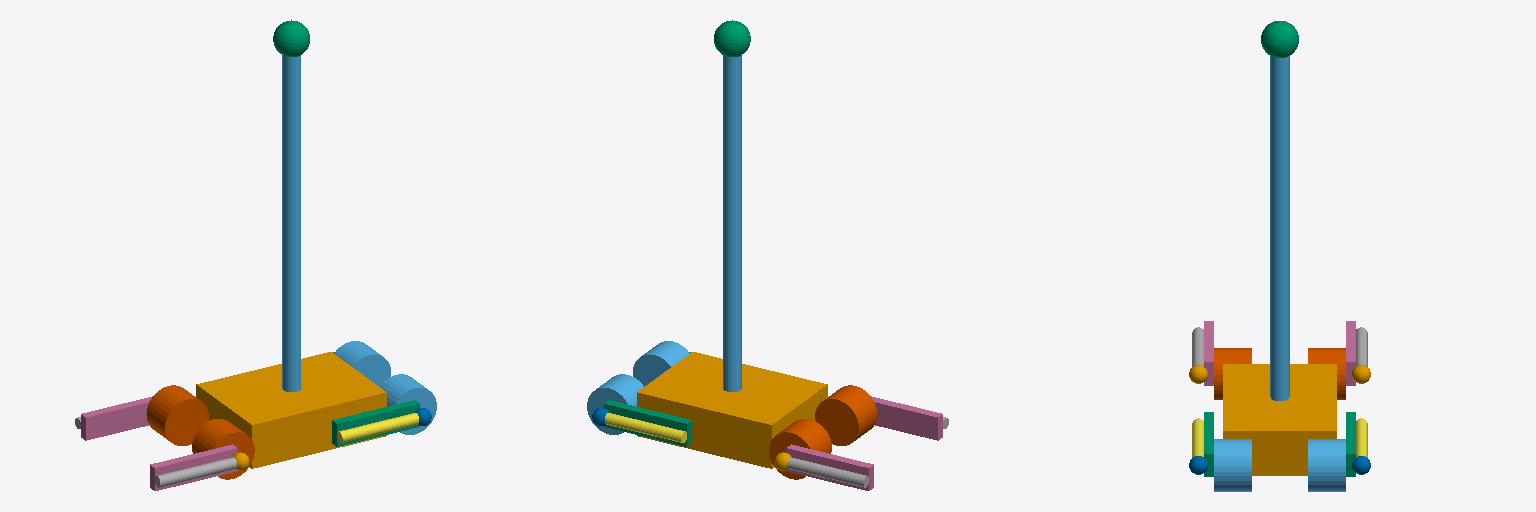
--- Render facts (derived) ---
3 views of the same robot in one strip: view 1: azimuth 30°, elevation 25°; view 2: azimuth 150°, elevation 25°; view 3: azimuth 270°, elevation 25° (orthographic).
Robot: spirit — 19 links, 18 joints (13 revolute, 5 fixed); root link body; default pose: all joints at 0.
Links seen in each view (by area): view 1: body, tail_link_0, hip1, upper1, hip3, hip2, upper2, upper3, hip0, tail_mass, lower2, lower3; view 2: body, tail_link_0, hip3, upper3, hip1, hip0, upper0, upper1, hip2, tail_mass, lower0, lower1; view 3: body, tail_link_0, hip0, hip2, tail_mass, hip1, hip3, upper0, upper2, upper1, upper3.
Link boxes in pixels (x1,y1,x2,y2): body: (196,352,386,468); tail_link_0: (282,55,300,391); hip1: (146,385,208,445); upper1: (81,396,152,440); hip3: (192,419,254,479); hip2: (380,374,436,434); upper2: (332,400,419,446); upper3: (150,444,237,490); hip0: (334,341,390,386); tail_mass: (273,20,309,56); lower2: (337,413,418,442); lower3: (154,457,236,487); body: (637,352,827,468); tail_link_0: (723,55,741,391); hip3: (815,385,877,445); upper3: (871,396,942,440); hip1: (769,419,831,479); hip0: (587,374,643,434); upper0: (604,400,691,446); upper1: (786,444,873,490); hip2: (633,341,689,386); tail_mass: (714,20,750,56); lower0: (605,413,686,442); lower1: (787,457,869,487); body: (1223,364,1336,475); tail_link_0: (1270,56,1289,400); hip0: (1308,439,1345,491); hip2: (1214,439,1251,491); tail_mass: (1261,21,1298,57); hip1: (1308,348,1345,399); hip3: (1214,348,1251,399); upper0: (1346,412,1355,476); upper2: (1204,412,1213,476); upper1: (1346,321,1355,385); upper3: (1204,321,1213,385).
Bounding box of the posed robot: 0.7136 × 0.382 × 0.9766 m (x, y, z).
Geometry: primitives only (box / cylinder / sphere), no mesh files.

The robot description file, URDF, robot "spirit":
<?xml version="1.0" encoding="utf-8"?>
<!-- =================================================================================== -->
<!-- |    This document was autogenerated by xacro from urdf/spirit_gazebo_tail.urdf.xacro | -->
<!-- |    EDITING THIS FILE BY HAND IS NOT RECOMMENDED                                 | -->
<!-- =================================================================================== -->
<!-- 
MIT License (modified)

Copyright (c) 2020 Ghost Robotics
Authors:
Avik De <[email redacted]>
Tom Jacobs <[email redacted]>

Permission is hereby granted, free of charge, to any person obtaining a copy
of this **file** (the "Software"), to deal
in the Software without restriction, including without limitation the rights
to use, copy, modify, merge, publish, distribute, sublicense, and/or sell
copies of the Software, and to permit persons to whom the Software is
furnished to do so, subject to the following conditions:

The above copyright notice and this permission notice shall be included in all
copies or substantial portions of the Software.

THE SOFTWARE IS PROVIDED "AS IS", WITHOUT WARRANTY OF ANY KIND, EXPRESS OR
IMPLIED, INCLUDING BUT NOT LIMITED TO THE WARRANTIES OF MERCHANTABILITY,
FITNESS FOR A PARTICULAR PURPOSE AND NONINFRINGEMENT. IN NO EVENT SHALL THE
AUTHORS OR COPYRIGHT HOLDERS BE LIABLE FOR ANY CLAIM, DAMAGES OR OTHER
LIABILITY, WHETHER IN AN ACTION OF CONTRACT, TORT OR OTHERWISE, ARISING FROM,
OUT OF OR IN CONNECTION WITH THE SOFTWARE OR THE USE OR OTHER DEALINGS IN THE
SOFTWARE. 
-->
<robot name="spirit">
  <!-- Original: 40 -->
  <!-- Plugins -->
  <gazebo>
    <plugin filename="libgazebo_ros_control.so" name="gazebo_ros_control">
      <robotNamespace>/spirit</robotNamespace>
      <controlPeriod>0.002</controlPeriod>
    </plugin>
    <plugin filename="libground_truth_estimator.so" name="ground_truth_estimator">
      <updateRateHz>500.0</updateRateHz>
    </plugin>
  </gazebo>
  <!--link name="body_dummy">
		<inertial>
			<mass value="${bodyMass}" />
			<inertia ixx="0.05" ixy="0" ixz="0" iyy="0.1" iyz="0" izz="0.1" />
		</inertial>
	</link>
	<joint name="dummy_joint" type="fixed">
		<parent link="body_dummy" />
		<child link="body" />
	</joint-->
  <!-- Body -->
  <link name="body">
    <visual>
      <origin rpy="0 0 0" xyz="0 0 0"/>
      <geometry>
        <box size="0.335 0.24 0.104"/>
      </geometry>
      <material name="darkgray"/>
    </visual>
    <inertial>
      <mass value="7.388"/>
      <!--<mass value="${bodyMass}" /> -->
      <!-- Uniform box -->
      <!-- <inertia ixx="1/12*${bodyMass}*(${bodyWidth}*${bodyWidth} + ${bodyHeight}*${bodyHeight})"  ixy="0"  ixz="0" iyy="1/12*${bodyMass}*(${bodyLength}*${bodyLength} + ${bodyHeight}*${bodyHeight})" iyz="0" izz="1/12*${bodyMass}*(${bodyLength}*${bodyLength} + ${bodyWidth}*${bodyWidth})"/> -->
      <inertia ixx="0.0642434782" ixy="0" ixz="0" iyy="0.1284869565" iyz="0" izz="0.1284869565"/>
      <!--<inertia ixx="0.05" ixy="0" ixz="0" iyy="0.1" iyz="0" izz="0.1" />-->
    </inertial>
    <!-- Just copy geometry for collision -->
    <collision>
      <origin rpy="0 0 0" xyz="0 0 0"/>
      <geometry>
        <box size="0.335 0.24 0.104"/>
      </geometry>
    </collision>
  </link>
  <gazebo reference="body">
    <material>Gazebo/Black</material>
  </gazebo>
  <!-- Hip motor -->
  <link name="hip0">
    <visual>
      <origin rpy="1.5707963268 0 0" xyz="0 0.028 0"/>
      <geometry>
        <cylinder length="0.08" radius="0.055"/>
      </geometry>
    </visual>
    <collision>
      <origin rpy="1.5707963268 0 0" xyz="0 0.028 0"/>
      <geometry>
        <cylinder length="0.08" radius="0.055"/>
      </geometry>
    </collision>
    <inertial>
      <origin rpy="1.5707963268 0 0" xyz="0 0.028 0"/>
      <mass value="0.575"/>
      <inertia ixx="0.000741510416667" ixy="0" ixz="0" iyy="0.000741510416667" iyz="0" izz="0.0008696875"/>
      <!-- Okay for now... forgot when cylinder is formed what direction is x pointing in -->
      <!--inertia ixx="0.00066963541" ixy="0" ixz="0" iyy="0.00066963541" iyz="0" izz="0.0008696875" /-->
    </inertial>
  </link>
  <gazebo reference="hip0">
    <material>Gazebo/Grey</material>
  </gazebo>
  <!-- Abduction joint. Joint names are: 8 9 10 11 -->
  <joint name="8" type="revolute">
    <parent link="body"/>
    <child link="hip0"/>
    <axis xyz="1 0 0"/>
    <origin xyz="0.2263 0.07 0"/>
    <limit effort="21" lower="-0.707" upper="0.707" velocity="37.7"/>
    <dynamics damping="0.0" friction="0.0"/>
  </joint>
  <!-- Transmission elements required for Gazebo -->
  <transmission name="transmission_8">
    <type>transmission_interface/SimpleTransmission</type>
    <joint name="8">
      <hardwareInterface>hardware_interface/EffortJointInterface</hardwareInterface>
    </joint>
    <actuator name="motor_8">
      <hardwareInterface>EffortJointInterface</hardwareInterface>
      <mechanicalReduction>1</mechanicalReduction>
    </actuator>
  </transmission>
  <!-- Upper leg -->
  <link name="upper0">
    <visual>
      <origin rpy="0 0 0" xyz="-0.103 -0.022 0"/>
      <geometry>
        <box size="0.206 0.022 0.055"/>
      </geometry>
      <material name="silver"/>
    </visual>
    <collision>
      <origin rpy="0 0 0" xyz="-0.103 -0.022 0"/>
      <geometry>
        <box size="0.206 0.022 0.055"/>
      </geometry>
    </collision>
    <inertial>
      <origin rpy="0 0 0" xyz="-0.103 -0.022 0"/>
      <mass value="0.792"/>
      <!--<inertia ixx="${upperLegIxx}" ixy="0" ixz="0" iyy="${upperLegIyy}" iyz="0" izz="${upperLegIzz}" /> -->
      <inertia ixx="0.000231594" ixy="0" ixz="0" iyy="0.003000426" iyz="0" izz="0.00283272"/>
    </inertial>
  </link>
  <gazebo reference="upper0">
    <self_collide>0</self_collide>
    <material>Gazebo/DarkGrey</material>
  </gazebo>
  <!-- Hip joint. (Motor to upper leg). Joint names are: 0 2 4 6 -->
  <joint name="0" type="revolute">
    <parent link="hip0"/>
    <child link="upper0"/>
    <axis xyz="0 -1 0"/>
    <origin xyz="0 0.10098 0"/>
    <!--  rpy="0 -0.3 0" -->
    <limit effort="21" lower="-1.57" upper="3.14" velocity="37.7"/>
    <dynamics damping="0.0" friction="0.0"/>
  </joint>
  <!-- Transmission elements required for Gazebo -->
  <transmission name="transmission_0">
    <type>transmission_interface/SimpleTransmission</type>
    <joint name="0">
      <hardwareInterface>hardware_interface/EffortJointInterface</hardwareInterface>
    </joint>
    <actuator name="motor_0">
      <hardwareInterface>EffortJointInterface</hardwareInterface>
      <mechanicalReduction>1</mechanicalReduction>
    </actuator>
  </transmission>
  <!-- Lower leg -->
  <link name="lower0">
    <self_collide>0</self_collide>
    <visual>
      <origin rpy="0 1.5707963268 0" xyz="0.103 0 0"/>
      <geometry>
        <cylinder length="0.206" radius="0.013"/>
      </geometry>
      <material name="darkgray"/>
    </visual>
    <collision>
      <origin rpy="0 1.5707963268 0" xyz="0.103 0 0"/>
      <geometry>
        <cylinder length="0.206" radius="0.013"/>
      </geometry>
    </collision>
    <inertial>
      <origin rpy="0 0 0" xyz="0.103 0 0"/>
      <mass value="0.075"/>
      <!--inertia ixx="${lowerLegIxx}" ixy="0" ixz="0" iyy="${lowerLegIyy}" iyz="0" izz="${lowerLegIzz}" /-->
      <inertia ixx="2.193125e-05" ixy="0" ixz="0" iyy="0.00028413125" iyz="0" izz="0.00026825"/>
    </inertial>
  </link>
  <gazebo reference="lower0">
    <material>Gazebo/Grey</material>
  </gazebo>
  <!-- Knee joint. Joint names are: 1 3 5 7 -->
  <joint name="1" type="revolute">
    <parent link="upper0"/>
    <child link="lower0"/>
    <axis xyz="0 1 0"/>
    <origin xyz="-0.206 0 0"/>
    <!--rpy="0 0.5 0"-->
    <!--<limit effort="${jointEffortLimit}" velocity="${jointSpeedLimit}" lower="0" upper="${pi}" />-->
    <limit effort="32" lower="-6.28" upper="6.28" velocity="25.1"/>
    <dynamics damping="0.0" friction="0.0"/>
  </joint>
  <!-- Transmission elements required for Gazebo -->
  <transmission name="transmission_1">
    <type>transmission_interface/SimpleTransmission</type>
    <joint name="1">
      <hardwareInterface>hardware_interface/EffortJointInterface</hardwareInterface>
    </joint>
    <actuator name="motor_1">
      <hardwareInterface>EffortJointInterface</hardwareInterface>
      <mechanicalReduction>1</mechanicalReduction>
    </actuator>
  </transmission>
  <!-- Toe -->
  <link name="toe0">
    <contact>
      <friction_anchor/>
      <stiffness value="30000.0"/>
      <damping value="1000.0"/>
      <spinning_friction value="0.3"/>
      <lateral_friction value="50.0"/>
    </contact>
    <visual>
      <origin rpy="0 0 0" xyz="0 0 0"/>
      <geometry>
        <sphere radius="0.02"/>
      </geometry>
      <material name="darkgray"/>
    </visual>
    <collision>
      <origin rpy="0 0 0" xyz="0 0 0"/>
      <geometry>
        <sphere radius="0.02"/>
      </geometry>
    </collision>
    <inertial>
      <mass value="0.015"/>
      <inertia ixx="0.000025" ixy="0" ixz="0" iyy="0.000025" iyz="0" izz="0.000025"/>
      <!-- <inertia ixx="2/5*${toeMass}*${toeRadius}*${toeRadius}"  ixy="0"  ixz="0" iyy="2/5*${toeMass}*${toeRadius}*${toeRadius}" iyz="0" izz="2/5*${toeMass}*${toeRadius}*${toeRadius}" /> -->
    </inertial>
  </link>
  <gazebo reference="toe0">
    <self_collide>0</self_collide>
    <material>Gazebo/Black</material>
    <collision>
      <surface>
        <bounce>
          <restitution_coefficient>0</restitution_coefficient>
          <threshold>1e+06</threshold>
        </bounce>
        <friction>
          <torsional>
            <coefficient>0.3</coefficient>
          </torsional>
          <ode>
            <mu>100.0</mu>
            <mu2>50.0</mu2>
          </ode>
          <bullet>
            <rolling_friction>0.3</rolling_friction>
            <friction2>50.0</friction2>
          </bullet>
        </friction>
        <contact>
          <bullet>
            <kp>30000.0</kp>
            <kd>1000.0</kd>
          </bullet>
          <ode>
            <kp>30000.0</kp>
            <kd>1000.0</kd>
          </ode>
        </contact>
      </surface>
    </collision>
  </gazebo>
  <joint name="jtoe0" type="fixed">
    <parent link="lower0"/>
    <child link="toe0"/>
    <origin xyz="0.206 0 -0.0"/>
    <dynamics damping="0.0" friction="0.0"/>
  </joint>
  <!-- Hip motor -->
  <link name="hip1">
    <visual>
      <origin rpy="1.5707963268 0 0" xyz="0 0.028 0"/>
      <geometry>
        <cylinder length="0.08" radius="0.055"/>
      </geometry>
    </visual>
    <collision>
      <origin rpy="1.5707963268 0 0" xyz="0 0.028 0"/>
      <geometry>
        <cylinder length="0.08" radius="0.055"/>
      </geometry>
    </collision>
    <inertial>
      <origin rpy="1.5707963268 0 0" xyz="0 0.028 0"/>
      <mass value="0.575"/>
      <inertia ixx="0.000741510416667" ixy="0" ixz="0" iyy="0.000741510416667" iyz="0" izz="0.0008696875"/>
      <!-- Okay for now... forgot when cylinder is formed what direction is x pointing in -->
      <!--inertia ixx="0.00066963541" ixy="0" ixz="0" iyy="0.00066963541" iyz="0" izz="0.0008696875" /-->
    </inertial>
  </link>
  <gazebo reference="hip1">
    <material>Gazebo/Grey</material>
  </gazebo>
  <!-- Abduction joint. Joint names are: 8 9 10 11 -->
  <joint name="9" type="revolute">
    <parent link="body"/>
    <child link="hip1"/>
    <axis xyz="1 0 0"/>
    <origin xyz="-0.2263 0.07 0"/>
    <limit effort="21" lower="-0.707" upper="0.707" velocity="37.7"/>
    <dynamics damping="0.0" friction="0.0"/>
  </joint>
  <!-- Transmission elements required for Gazebo -->
  <transmission name="transmission_9">
    <type>transmission_interface/SimpleTransmission</type>
    <joint name="9">
      <hardwareInterface>hardware_interface/EffortJointInterface</hardwareInterface>
    </joint>
    <actuator name="motor_9">
      <hardwareInterface>EffortJointInterface</hardwareInterface>
      <mechanicalReduction>1</mechanicalReduction>
    </actuator>
  </transmission>
  <!-- Upper leg -->
  <link name="upper1">
    <visual>
      <origin rpy="0 0 0" xyz="-0.103 -0.022 0"/>
      <geometry>
        <box size="0.206 0.022 0.055"/>
      </geometry>
      <material name="silver"/>
    </visual>
    <collision>
      <origin rpy="0 0 0" xyz="-0.103 -0.022 0"/>
      <geometry>
        <box size="0.206 0.022 0.055"/>
      </geometry>
    </collision>
    <inertial>
      <origin rpy="0 0 0" xyz="-0.103 -0.022 0"/>
      <mass value="0.792"/>
      <!--<inertia ixx="${upperLegIxx}" ixy="0" ixz="0" iyy="${upperLegIyy}" iyz="0" izz="${upperLegIzz}" /> -->
      <inertia ixx="0.000231594" ixy="0" ixz="0" iyy="0.003000426" iyz="0" izz="0.00283272"/>
    </inertial>
  </link>
  <gazebo reference="upper1">
    <self_collide>0</self_collide>
    <material>Gazebo/DarkGrey</material>
  </gazebo>
  <!-- Hip joint. (Motor to upper leg). Joint names are: 0 2 4 6 -->
  <joint name="2" type="revolute">
    <parent link="hip1"/>
    <child link="upper1"/>
    <axis xyz="0 -1 0"/>
    <origin xyz="0 0.10098 0"/>
    <!--  rpy="0 -0.3 0" -->
    <limit effort="21" lower="-1.57" upper="3.14" velocity="37.7"/>
    <dynamics damping="0.0" friction="0.0"/>
  </joint>
  <!-- Transmission elements required for Gazebo -->
  <transmission name="transmission_2">
    <type>transmission_interface/SimpleTransmission</type>
    <joint name="2">
      <hardwareInterface>hardware_interface/EffortJointInterface</hardwareInterface>
    </joint>
    <actuator name="motor_2">
      <hardwareInterface>EffortJointInterface</hardwareInterface>
      <mechanicalReduction>1</mechanicalReduction>
    </actuator>
  </transmission>
  <!-- Lower leg -->
  <link name="lower1">
    <self_collide>0</self_collide>
    <visual>
      <origin rpy="0 1.5707963268 0" xyz="0.103 0 0"/>
      <geometry>
        <cylinder length="0.206" radius="0.013"/>
      </geometry>
      <material name="darkgray"/>
    </visual>
    <collision>
      <origin rpy="0 1.5707963268 0" xyz="0.103 0 0"/>
      <geometry>
        <cylinder length="0.206" radius="0.013"/>
      </geometry>
    </collision>
    <inertial>
      <origin rpy="0 0 0" xyz="0.103 0 0"/>
      <mass value="0.075"/>
      <!--inertia ixx="${lowerLegIxx}" ixy="0" ixz="0" iyy="${lowerLegIyy}" iyz="0" izz="${lowerLegIzz}" /-->
      <inertia ixx="2.193125e-05" ixy="0" ixz="0" iyy="0.00028413125" iyz="0" izz="0.00026825"/>
    </inertial>
  </link>
  <gazebo reference="lower1">
    <material>Gazebo/Grey</material>
  </gazebo>
  <!-- Knee joint. Joint names are: 1 3 5 7 -->
  <joint name="3" type="revolute">
    <parent link="upper1"/>
    <child link="lower1"/>
    <axis xyz="0 1 0"/>
    <origin xyz="-0.206 0 0"/>
    <!--rpy="0 0.5 0"-->
    <!--<limit effort="${jointEffortLimit}" velocity="${jointSpeedLimit}" lower="0" upper="${pi}" />-->
    <limit effort="32" lower="-6.28" upper="6.28" velocity="25.1"/>
    <dynamics damping="0.0" friction="0.0"/>
  </joint>
  <!-- Transmission elements required for Gazebo -->
  <transmission name="transmission_3">
    <type>transmission_interface/SimpleTransmission</type>
    <joint name="3">
      <hardwareInterface>hardware_interface/EffortJointInterface</hardwareInterface>
    </joint>
    <actuator name="motor_3">
      <hardwareInterface>EffortJointInterface</hardwareInterface>
      <mechanicalReduction>1</mechanicalReduction>
    </actuator>
  </transmission>
  <!-- Toe -->
  <link name="toe1">
    <contact>
      <friction_anchor/>
      <stiffness value="30000.0"/>
      <damping value="1000.0"/>
      <spinning_friction value="0.3"/>
      <lateral_friction value="50.0"/>
    </contact>
    <visual>
      <origin rpy="0 0 0" xyz="0 0 0"/>
      <geometry>
        <sphere radius="0.02"/>
      </geometry>
      <material name="darkgray"/>
    </visual>
    <collision>
      <origin rpy="0 0 0" xyz="0 0 0"/>
      <geometry>
        <sphere radius="0.02"/>
      </geometry>
    </collision>
    <inertial>
      <mass value="0.015"/>
      <inertia ixx="0.000025" ixy="0" ixz="0" iyy="0.000025" iyz="0" izz="0.000025"/>
      <!-- <inertia ixx="2/5*${toeMass}*${toeRadius}*${toeRadius}"  ixy="0"  ixz="0" iyy="2/5*${toeMass}*${toeRadius}*${toeRadius}" iyz="0" izz="2/5*${toeMass}*${toeRadius}*${toeRadius}" /> -->
    </inertial>
  </link>
  <gazebo reference="toe1">
    <self_collide>0</self_collide>
    <material>Gazebo/Black</material>
    <collision>
      <surface>
        <bounce>
          <restitution_coefficient>0</restitution_coefficient>
          <threshold>1e+06</threshold>
        </bounce>
        <friction>
          <torsional>
            <coefficient>0.3</coefficient>
          </torsional>
          <ode>
            <mu>100.0</mu>
            <mu2>50.0</mu2>
          </ode>
          <bullet>
            <rolling_friction>0.3</rolling_friction>
            <friction2>50.0</friction2>
          </bullet>
        </friction>
        <contact>
          <bullet>
            <kp>30000.0</kp>
            <kd>1000.0</kd>
          </bullet>
          <ode>
            <kp>30000.0</kp>
            <kd>1000.0</kd>
          </ode>
        </contact>
      </surface>
    </collision>
  </gazebo>
  <joint name="jtoe1" type="fixed">
    <parent link="lower1"/>
    <child link="toe1"/>
    <origin xyz="0.206 0 -0.0"/>
    <dynamics damping="0.0" friction="0.0"/>
  </joint>
  <!-- Hip motor -->
  <link name="hip2">
    <visual>
      <origin rpy="1.5707963268 0 0" xyz="0 -0.028 0"/>
      <geometry>
        <cylinder length="0.08" radius="0.055"/>
      </geometry>
    </visual>
    <collision>
      <origin rpy="1.5707963268 0 0" xyz="0 -0.028 0"/>
      <geometry>
        <cylinder length="0.08" radius="0.055"/>
      </geometry>
    </collision>
    <inertial>
      <origin rpy="1.5707963268 0 0" xyz="0 -0.028 0"/>
      <mass value="0.575"/>
      <inertia ixx="0.000741510416667" ixy="0" ixz="0" iyy="0.000741510416667" iyz="0" izz="0.0008696875"/>
      <!-- Okay for now... forgot when cylinder is formed what direction is x pointing in -->
      <!--inertia ixx="0.00066963541" ixy="0" ixz="0" iyy="0.00066963541" iyz="0" izz="0.0008696875" /-->
    </inertial>
  </link>
  <gazebo reference="hip2">
    <material>Gazebo/Grey</material>
  </gazebo>
  <!-- Abduction joint. Joint names are: 8 9 10 11 -->
  <joint name="10" type="revolute">
    <parent link="body"/>
    <child link="hip2"/>
    <axis xyz="1 0 0"/>
    <origin xyz="0.2263 -0.07 0"/>
    <limit effort="21" lower="-0.707" upper="0.707" velocity="37.7"/>
    <dynamics damping="0.0" friction="0.0"/>
  </joint>
  <!-- Transmission elements required for Gazebo -->
  <transmission name="transmission_10">
    <type>transmission_interface/SimpleTransmission</type>
    <joint name="10">
      <hardwareInterface>hardware_interface/EffortJointInterface</hardwareInterface>
    </joint>
    <actuator name="motor_10">
      <hardwareInterface>EffortJointInterface</hardwareInterface>
      <mechanicalReduction>1</mechanicalReduction>
    </actuator>
  </transmission>
  <!-- Upper leg -->
  <link name="upper2">
    <visual>
      <origin rpy="0 0 0" xyz="-0.103 0.022 0"/>
      <geometry>
        <box size="0.206 0.022 0.055"/>
      </geometry>
      <material name="silver"/>
    </visual>
    <collision>
      <origin rpy="0 0 0" xyz="-0.103 0.022 0"/>
      <geometry>
        <box size="0.206 0.022 0.055"/>
      </geometry>
    </collision>
    <inertial>
      <origin rpy="0 0 0" xyz="-0.103 0.022 0"/>
      <mass value="0.792"/>
      <!--<inertia ixx="${upperLegIxx}" ixy="0" ixz="0" iyy="${upperLegIyy}" iyz="0" izz="${upperLegIzz}" /> -->
      <inertia ixx="0.000231594" ixy="0" ixz="0" iyy="0.003000426" iyz="0" izz="0.00283272"/>
    </inertial>
  </link>
  <gazebo reference="upper2">
    <self_collide>0</self_collide>
    <material>Gazebo/DarkGrey</material>
  </gazebo>
  <!-- Hip joint. (Motor to upper leg). Joint names are: 0 2 4 6 -->
  <joint name="4" type="revolute">
    <parent link="hip2"/>
    <child link="upper2"/>
    <axis xyz="0 -1 0"/>
    <origin xyz="0 -0.10098 0"/>
    <!--  rpy="0 -0.3 0" -->
    <limit effort="21" lower="-1.57" upper="3.14" velocity="37.7"/>
    <dynamics damping="0.0" friction="0.0"/>
  </joint>
  <!-- Transmission elements required for Gazebo -->
  <transmission name="transmission_4">
    <type>transmission_interface/SimpleTransmission</type>
    <joint name="4">
      <hardwareInterface>hardware_interface/EffortJointInterface</hardwareInterface>
    </joint>
    <actuator name="motor_4">
      <hardwareInterface>EffortJointInterface</hardwareInterface>
      <mechanicalReduction>1</mechanicalReduction>
    </actuator>
  </transmission>
  <!-- Lower leg -->
  <link name="lower2">
    <self_collide>0</self_collide>
    <visual>
      <origin rpy="0 1.5707963268 0" xyz="0.103 0 0"/>
      <geometry>
        <cylinder length="0.206" radius="0.013"/>
      </geometry>
      <material name="darkgray"/>
    </visual>
    <collision>
      <origin rpy="0 1.5707963268 0" xyz="0.103 0 0"/>
      <geometry>
        <cylinder length="0.206" radius="0.013"/>
      </geometry>
    </collision>
    <inertial>
      <origin rpy="0 0 0" xyz="0.103 0 0"/>
      <mass value="0.075"/>
      <!--inertia ixx="${lowerLegIxx}" ixy="0" ixz="0" iyy="${lowerLegIyy}" iyz="0" izz="${lowerLegIzz}" /-->
      <inertia ixx="2.193125e-05" ixy="0" ixz="0" iyy="0.00028413125" iyz="0" izz="0.00026825"/>
    </inertial>
  </link>
  <gazebo reference="lower2">
    <material>Gazebo/Grey</material>
  </gazebo>
  <!-- Knee joint. Joint names are: 1 3 5 7 -->
  <joint name="5" type="revolute">
    <parent link="upper2"/>
    <child link="lower2"/>
    <axis xyz="0 1 0"/>
    <origin xyz="-0.206 0 0"/>
    <!--rpy="0 0.5 0"-->
    <!--<limit effort="${jointEffortLimit}" velocity="${jointSpeedLimit}" lower="0" upper="${pi}" />-->
    <limit effort="32" lower="-6.28" upper="6.28" velocity="25.1"/>
    <dynamics damping="0.0" friction="0.0"/>
  </joint>
  <!-- Transmission elements required for Gazebo -->
  <transmission name="transmission_5">
    <type>transmission_interface/SimpleTransmission</type>
    <joint name="5">
      <hardwareInterface>hardware_interface/EffortJointInterface</hardwareInterface>
    </joint>
    <actuator name="motor_5">
      <hardwareInterface>EffortJointInterface</hardwareInterface>
      <mechanicalReduction>1</mechanicalReduction>
    </actuator>
  </transmission>
  <!-- Toe -->
  <link name="toe2">
    <contact>
      <friction_anchor/>
      <stiffness value="30000.0"/>
      <damping value="1000.0"/>
      <spinning_friction value="0.3"/>
      <lateral_friction value="50.0"/>
    </contact>
    <visual>
      <origin rpy="0 0 0" xyz="0 0 0"/>
      <geometry>
        <sphere radius="0.02"/>
      </geometry>
      <material name="darkgray"/>
    </visual>
    <collision>
      <origin rpy="0 0 0" xyz="0 0 0"/>
      <geometry>
        <sphere radius="0.02"/>
      </geometry>
    </collision>
    <inertial>
      <mass value="0.015"/>
      <inertia ixx="0.000025" ixy="0" ixz="0" iyy="0.000025" iyz="0" izz="0.000025"/>
      <!-- <inertia ixx="2/5*${toeMass}*${toeRadius}*${toeRadius}"  ixy="0"  ixz="0" iyy="2/5*${toeMass}*${toeRadius}*${toeRadius}" iyz="0" izz="2/5*${toeMass}*${toeRadius}*${toeRadius}" /> -->
    </inertial>
  </link>
  <gazebo reference="toe2">
    <self_collide>0</self_collide>
    <material>Gazebo/Black</material>
    <collision>
      <surface>
        <bounce>
          <restitution_coefficient>0</restitution_coefficient>
          <threshold>1e+06</threshold>
        </bounce>
        <friction>
          <torsional>
            <coefficient>0.3</coefficient>
          </torsional>
          <ode>
            <mu>100.0</mu>
            <mu2>50.0</mu2>
          </ode>
          <bullet>
            <rolling_friction>0.3</rolling_friction>
            <friction2>50.0</friction2>
          </bullet>
        </friction>
        <contact>
          <bullet>
            <kp>30000.0</kp>
            <kd>1000.0</kd>
          </bullet>
          <ode>
            <kp>30000.0</kp>
            <kd>1000.0</kd>
          </ode>
        </contact>
      </surface>
    </collision>
  </gazebo>
  <joint name="jtoe2" type="fixed">
    <parent link="lower2"/>
    <child link="toe2"/>
    <origin xyz="0.206 0 -0.0"/>
    <dynamics damping="0.0" friction="0.0"/>
  </joint>
  <!-- Hip motor -->
  <link name="hip3">
    <visual>
      <origin rpy="1.5707963268 0 0" xyz="0 -0.028 0"/>
      <geometry>
        <cylinder length="0.08" radius="0.055"/>
      </geometry>
    </visual>
    <collision>
      <origin rpy="1.5707963268 0 0" xyz="0 -0.028 0"/>
      <geometry>
        <cylinder length="0.08" radius="0.055"/>
      </geometry>
    </collision>
    <inertial>
      <origin rpy="1.5707963268 0 0" xyz="0 -0.028 0"/>
      <mass value="0.575"/>
      <inertia ixx="0.000741510416667" ixy="0" ixz="0" iyy="0.000741510416667" iyz="0" izz="0.0008696875"/>
      <!-- Okay for now... forgot when cylinder is formed what direction is x pointing in -->
      <!--inertia ixx="0.00066963541" ixy="0" ixz="0" iyy="0.00066963541" iyz="0" izz="0.0008696875" /-->
    </inertial>
  </link>
  <gazebo reference="hip3">
    <material>Gazebo/Grey</material>
  </gazebo>
  <!-- Abduction joint. Joint names are: 8 9 10 11 -->
  <joint name="11" type="revolute">
    <parent link="body"/>
    <child link="hip3"/>
    <axis xyz="1 0 0"/>
    <origin xyz="-0.2263 -0.07 0"/>
    <limit effort="21" lower="-0.707" upper="0.707" velocity="37.7"/>
    <dynamics damping="0.0" friction="0.0"/>
  </joint>
  <!-- Transmission elements required for Gazebo -->
  <transmission name="transmission_11">
    <type>transmission_interface/SimpleTransmission</type>
    <joint name="11">
      <hardwareInterface>hardware_interface/EffortJointInterface</hardwareInterface>
    </joint>
    <actuator name="motor_11">
      <hardwareInterface>EffortJointInterface</hardwareInterface>
      <mechanicalReduction>1</mechanicalReduction>
    </actuator>
  </transmission>
  <!-- Upper leg -->
  <link name="upper3">
    <visual>
      <origin rpy="0 0 0" xyz="-0.103 0.022 0"/>
      <geometry>
        <box size="0.206 0.022 0.055"/>
      </geometry>
      <material name="silver"/>
    </visual>
    <collision>
      <origin rpy="0 0 0" xyz="-0.103 0.022 0"/>
      <geometry>
        <box size="0.206 0.022 0.055"/>
      </geometry>
    </collision>
    <inertial>
      <origin rpy="0 0 0" xyz="-0.103 0.022 0"/>
      <mass value="0.792"/>
      <!--<inertia ixx="${upperLegIxx}" ixy="0" ixz="0" iyy="${upperLegIyy}" iyz="0" izz="${upperLegIzz}" /> -->
      <inertia ixx="0.000231594" ixy="0" ixz="0" iyy="0.003000426" iyz="0" izz="0.00283272"/>
    </inertial>
  </link>
  <gazebo reference="upper3">
    <self_collide>0</self_collide>
    <material>Gazebo/DarkGrey</material>
  </gazebo>
  <!-- Hip joint. (Motor to upper leg). Joint names are: 0 2 4 6 -->
  <joint name="6" type="revolute">
    <parent link="hip3"/>
    <child link="upper3"/>
    <axis xyz="0 -1 0"/>
    <origin xyz="0 -0.10098 0"/>
    <!--  rpy="0 -0.3 0" -->
    <limit effort="21" lower="-1.57" upper="3.14" velocity="37.7"/>
    <dynamics damping="0.0" friction="0.0"/>
  </joint>
  <!-- Transmission elements required for Gazebo -->
  <transmission name="transmission_6">
    <type>transmission_interface/SimpleTransmission</type>
    <joint name="6">
      <hardwareInterface>hardware_interface/EffortJointInterface</hardwareInterface>
    </joint>
    <actuator name="motor_6">
      <hardwareInterface>EffortJointInterface</hardwareInterface>
      <mechanicalReduction>1</mechanicalReduction>
    </actuator>
  </transmission>
  <!-- Lower leg -->
  <link name="lower3">
    <self_collide>0</self_collide>
    <visual>
      <origin rpy="0 1.5707963268 0" xyz="0.103 0 0"/>
      <geometry>
        <cylinder length="0.206" radius="0.013"/>
      </geometry>
      <material name="darkgray"/>
    </visual>
    <collision>
      <origin rpy="0 1.5707963268 0" xyz="0.103 0 0"/>
      <geometry>
        <cylinder length="0.206" radius="0.013"/>
      </geometry>
    </collision>
    <inertial>
      <origin rpy="0 0 0" xyz="0.103 0 0"/>
      <mass value="0.075"/>
      <!--inertia ixx="${lowerLegIxx}" ixy="0" ixz="0" iyy="${lowerLegIyy}" iyz="0" izz="${lowerLegIzz}" /-->
      <inertia ixx="2.193125e-05" ixy="0" ixz="0" iyy="0.00028413125" iyz="0" izz="0.00026825"/>
    </inertial>
  </link>
  <gazebo reference="lower3">
    <material>Gazebo/Grey</material>
  </gazebo>
  <!-- Knee joint. Joint names are: 1 3 5 7 -->
  <joint name="7" type="revolute">
    <parent link="upper3"/>
    <child link="lower3"/>
    <axis xyz="0 1 0"/>
    <origin xyz="-0.206 0 0"/>
    <!--rpy="0 0.5 0"-->
    <!--<limit effort="${jointEffortLimit}" velocity="${jointSpeedLimit}" lower="0" upper="${pi}" />-->
    <limit effort="32" lower="-6.28" upper="6.28" velocity="25.1"/>
    <dynamics damping="0.0" friction="0.0"/>
  </joint>
  <!-- Transmission elements required for Gazebo -->
  <transmission name="transmission_7">
    <type>transmission_interface/SimpleTransmission</type>
    <joint name="7">
      <hardwareInterface>hardware_interface/EffortJointInterface</hardwareInterface>
    </joint>
    <actuator name="motor_7">
      <hardwareInterface>EffortJointInterface</hardwareInterface>
      <mechanicalReduction>1</mechanicalReduction>
    </actuator>
  </transmission>
  <!-- Toe -->
  <link name="toe3">
    <contact>
      <friction_anchor/>
      <stiffness value="30000.0"/>
      <damping value="1000.0"/>
      <spinning_friction value="0.3"/>
      <lateral_friction value="50.0"/>
    </contact>
    <visual>
      <origin rpy="0 0 0" xyz="0 0 0"/>
      <geometry>
        <sphere radius="0.02"/>
      </geometry>
      <material name="darkgray"/>
    </visual>
    <collision>
      <origin rpy="0 0 0" xyz="0 0 0"/>
      <geometry>
        <sphere radius="0.02"/>
      </geometry>
    </collision>
    <inertial>
      <mass value="0.015"/>
      <inertia ixx="0.000025" ixy="0" ixz="0" iyy="0.000025" iyz="0" izz="0.000025"/>
      <!-- <inertia ixx="2/5*${toeMass}*${toeRadius}*${toeRadius}"  ixy="0"  ixz="0" iyy="2/5*${toeMass}*${toeRadius}*${toeRadius}" iyz="0" izz="2/5*${toeMass}*${toeRadius}*${toeRadius}" /> -->
    </inertial>
  </link>
  <gazebo reference="toe3">
    <self_collide>0</self_collide>
    <material>Gazebo/Black</material>
    <collision>
      <surface>
        <bounce>
          <restitution_coefficient>0</restitution_coefficient>
          <threshold>1e+06</threshold>
        </bounce>
        <friction>
          <torsional>
            <coefficient>0.3</coefficient>
          </torsional>
          <ode>
            <mu>100.0</mu>
            <mu2>50.0</mu2>
          </ode>
          <bullet>
            <rolling_friction>0.3</rolling_friction>
            <friction2>50.0</friction2>
          </bullet>
        </friction>
        <contact>
          <bullet>
            <kp>30000.0</kp>
            <kd>1000.0</kd>
          </bullet>
          <ode>
            <kp>30000.0</kp>
            <kd>1000.0</kd>
          </ode>
        </contact>
      </surface>
    </collision>
  </gazebo>
  <joint name="jtoe3" type="fixed">
    <parent link="lower3"/>
    <child link="toe3"/>
    <origin xyz="0.206 0 -0.0"/>
    <dynamics damping="0.0" friction="0.0"/>
  </joint>
  <!-- Toe Plugins -->
  <gazebo reference="toe0">
    <sensor name="toe0_contact" type="contact">
      <plugin filename="libgazebo_ros_bumper.so" name="toe0_plugin">
        <alwaysOn>true</alwaysOn>
        <updateRate>500</updateRate>
        <bumperTopicName>gazebo/toe0_contact_state</bumperTopicName>
        <frameName>world</frameName>
      </plugin>
      <contact>
        <collision>toe0_collision</collision>
      </contact>
      <update_rate>500</update_rate>
    </sensor>
  </gazebo>
  <gazebo reference="toe1">
    <sensor name="toe1_contact" type="contact">
      <plugin filename="libgazebo_ros_bumper.so" name="toe1_plugin">
        <alwaysOn>true</alwaysOn>
        <updateRate>500</updateRate>
        <bumperTopicName>gazebo/toe1_contact_state</bumperTopicName>
        <frameName>world</frameName>
      </plugin>
      <contact>
        <collision>toe1_collision</collision>
      </contact>
      <update_rate>500</update_rate>
    </sensor>
  </gazebo>
  <gazebo reference="toe2">
    <sensor name="toe2_contact" type="contact">
      <plugin filename="libgazebo_ros_bumper.so" name="toe2_plugin">
        <alwaysOn>true</alwaysOn>
        <updateRate>500</updateRate>
        <bumperTopicName>gazebo/toe2_contact_state</bumperTopicName>
        <frameName>world</frameName>
      </plugin>
      <contact>
        <collision>toe2_collision</collision>
      </contact>
      <update_rate>500</update_rate>
    </sensor>
  </gazebo>
  <gazebo reference="toe3">
    <sensor name="toe3_contact" type="contact">
      <plugin filename="libgazebo_ros_bumper.so" name="toe3_plugin">
        <alwaysOn>true</alwaysOn>
        <updateRate>500</updateRate>
        <bumperTopicName>gazebo/toe3_contact_state</bumperTopicName>
        <frameName>world</frameName>
      </plugin>
      <contact>
        <collision>toe3_collision</collision>
      </contact>
      <update_rate>500</update_rate>
    </sensor>
  </gazebo>
  <!-- Preserve fixed joints -->
  <gazebo reference="jtoe0">
    <preserveFixedJoint>true</preserveFixedJoint>
  </gazebo>
  <gazebo reference="jtoe1">
    <preserveFixedJoint>true</preserveFixedJoint>
  </gazebo>
  <gazebo reference="jtoe2">
    <preserveFixedJoint>true</preserveFixedJoint>
  </gazebo>
  <gazebo reference="jtoe3">
    <preserveFixedJoint>true</preserveFixedJoint>
  </gazebo>
  <!-- TAIL -->
  <!-- Tail Links -->
  <link name="tail_link_0">
    <visual>
      <origin rpy="0 0 0" xyz="0 0 0.4408"/>
      <geometry>
        <cylinder length="0.8816" radius="0.02"/>
      </geometry>
      <material name="gray"/>
    </visual>
    <inertial>
      <mass value="1e-03"/>
      <inertia ixx="1e-04" ixy="0" ixz="0" iyy="1e-04" iyz="0.0" izz="1e-04"/>
    </inertial>
    <!-- No need to add collision boxes for this -->
  </link>
  <gazebo reference="tail_link_0">
    <material>Gazebo/Gray</material>
  </gazebo>
  <link name="tail_mass">
    <visual>
      <origin rpy="0 0 0" xyz="0 0 0"/>
      <geometry>
        <sphere radius="0.04"/>
      </geometry>
      <material name="gray"/>
    </visual>
    <inertial>
      <mass value="0.2764"/>
      <inertia ixx="2.764e-04" ixy="0" ixz="0" iyy="2.764e-04" iyz="0" izz="2.764e-04"/>
    </inertial>
  </link>
  <gazebo reference="tail_mass">
    <material>Gazebo/Gray</material>
  </gazebo>
  <!-- Tail Joints -->
  <joint name="body_tail_joint_0" type="revolute">
    <parent link="body"/>
    <child link="tail_link_0"/>
    <axis xyz="1 0 0"/>
    <origin rpy="0 0 0" xyz="0 0 0"/>
    <limit effort="35" lower="-1.57" upper="1.57" velocity="1000000"/>
    <dynamics damping="0.0" friction="0.0"/>
  </joint>
  <joint name="tail_link_mass_joint" type="fixed">
    <parent link="tail_link_0"/>
    <child link="tail_mass"/>
    <origin xyz="0 0 0.8816"/>
    <dynamic damping="0.0" friction="0.0"/>
  </joint>
  <!-- Transmission Elements Required for Gazebo Control -->
  <transmission name="transmission_body_tail_joint_0">
    <type>transmission_interface/SimpleTransmission</type>
    <joint name="body_tail_joint_0">
      <hardwareInterface>hardware_interface/EffortJointInterface</hardwareInterface>
    </joint>
    <actuator name="motor_body_tail_joint_0">
      <hardwareInterface>hardware_interface/EffortJointInterface</hardwareInterface>
      <mechanicalReduction>1</mechanicalReduction>
    </actuator>
  </transmission>
</robot>
